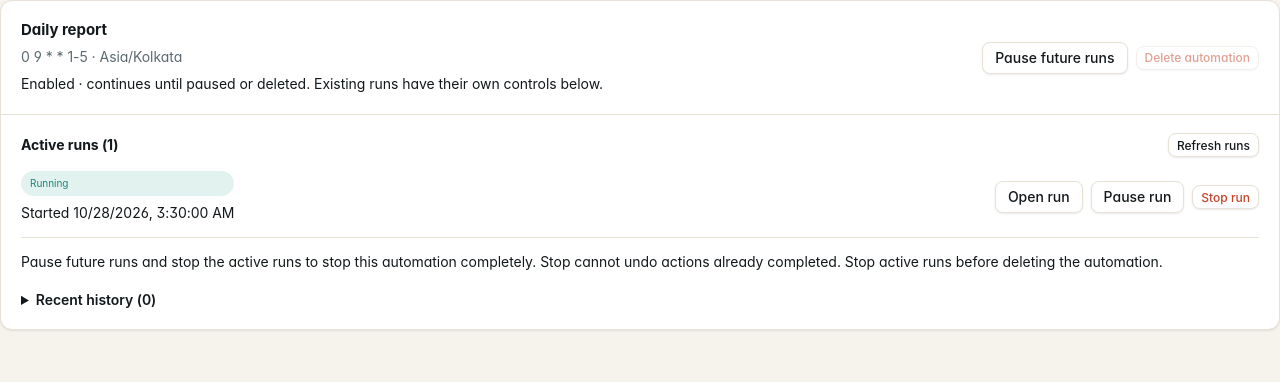
recurring automation management › lets Stop supersede an unconfirmed pause and ignores its late failure
This screenshot has width=1280, height=382.
Click the button "Pause run". click: (1137, 197)
box: [1091, 181, 1184, 213]
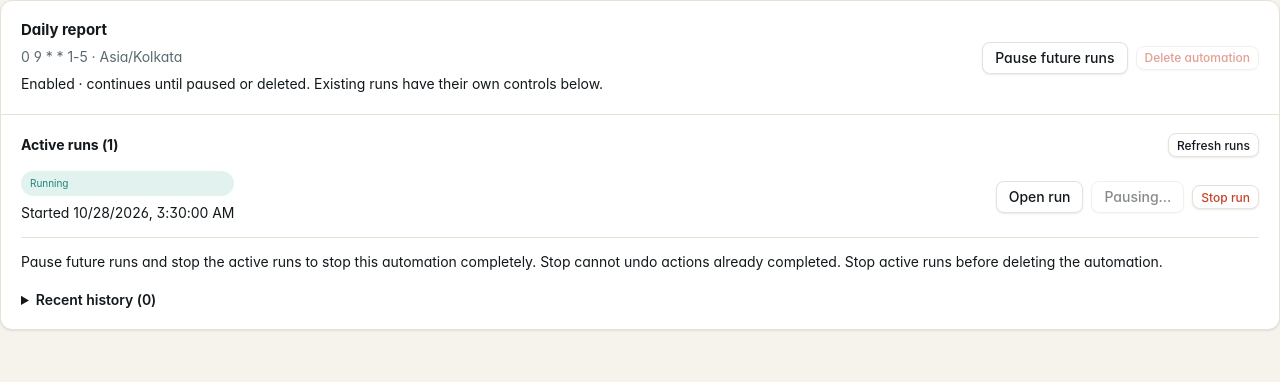
Check: the button "Pausing…" is shown, box [1091, 181, 1184, 213]
Click the button "Stop run". click: (1226, 197)
box: [1192, 185, 1259, 209]
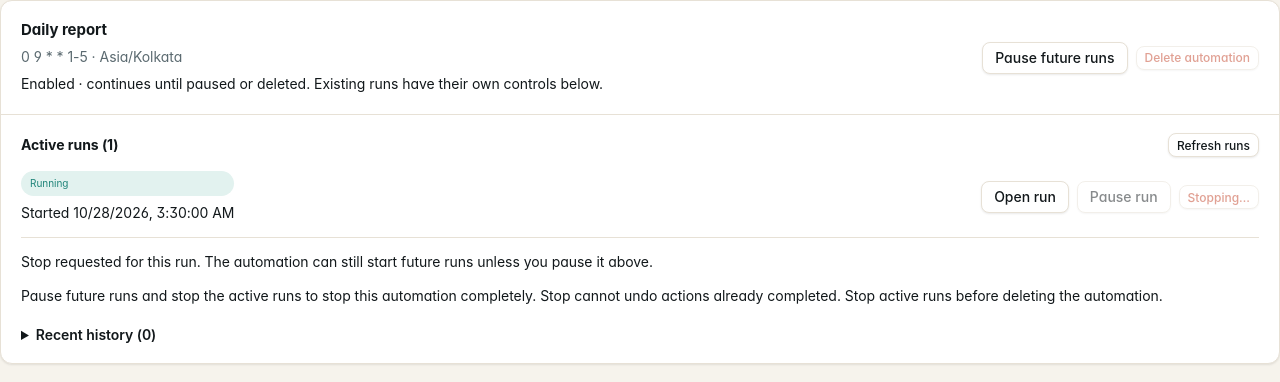
Check: the text "Stop requested for this run" is shown, box [21, 253, 653, 270]
Check: the button "Stopping…" is disabled, box [1179, 185, 1259, 209]
